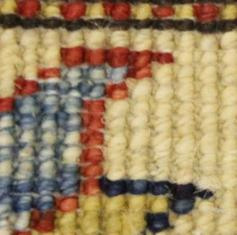Knot: (83, 31, 108, 50), (131, 3, 154, 22), (145, 214, 167, 233), (131, 33, 155, 50), (14, 30, 38, 47), (103, 180, 126, 197), (62, 30, 83, 48), (108, 31, 130, 48), (14, 161, 35, 178), (39, 1, 60, 18), (149, 180, 172, 195), (61, 144, 81, 161), (34, 144, 54, 161), (38, 161, 58, 178), (146, 195, 166, 212), (80, 195, 100, 212), (40, 30, 59, 47), (57, 212, 76, 229), (58, 178, 77, 195), (175, 3, 194, 20), (198, 3, 216, 20), (18, 112, 36, 129), (63, 95, 81, 112), (40, 99, 58, 116), (37, 193, 54, 210), (198, 35, 217, 50), (109, 65, 125, 82), (172, 199, 190, 214), (128, 178, 146, 193), (112, 1, 127, 18), (89, 65, 104, 82), (20, 127, 35, 144), (218, 5, 235, 20), (64, 48, 81, 63), (38, 214, 53, 231), (66, 1, 81, 18), (110, 50, 127, 65), (39, 178, 56, 193), (60, 195, 76, 210), (14, 212, 28, 229), (65, 112, 80, 127), (22, 63, 37, 78), (78, 178, 91, 195), (17, 193, 30, 210), (64, 129, 78, 144), (41, 127, 55, 142), (18, 146, 34, 159), (24, 1, 37, 16), (90, 99, 103, 114), (66, 67, 79, 82), (78, 82, 91, 97), (89, 50, 103, 63), (91, 84, 104, 97), (85, 163, 98, 176), (89, 131, 102, 144), (111, 86, 126, 97), (89, 114, 100, 129), (14, 78, 24, 94), (24, 80, 37, 92), (158, 5, 172, 16), (127, 52, 137, 67), (136, 65, 148, 77), (89, 148, 100, 161), (80, 129, 89, 144), (104, 1, 112, 16), (80, 114, 89, 127), (160, 54, 172, 63)
